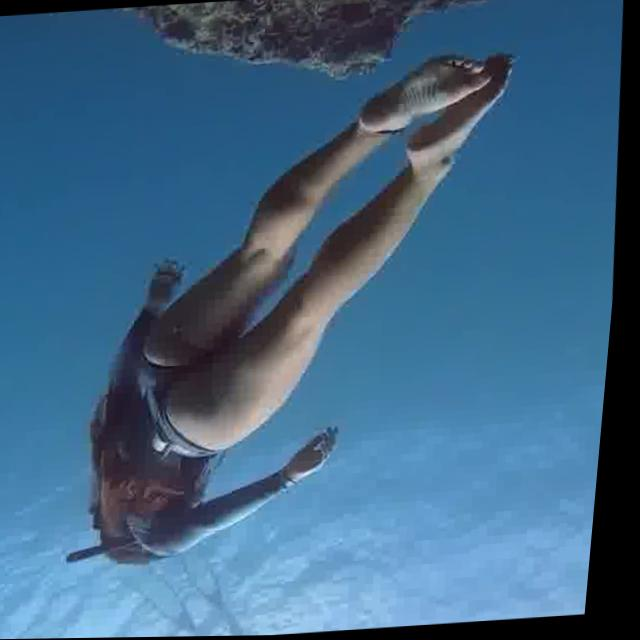human: (49, 23, 553, 571)
